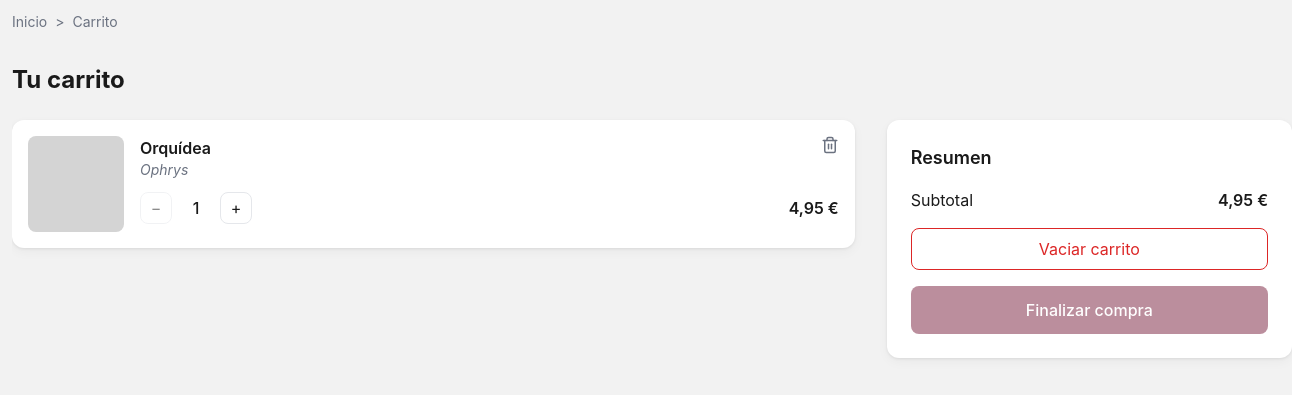
Test: CartPage integration › clears cart after confirmation
The image size is (1292, 395).
Note: First click shows confirmation dialog
Click the button "Vaciar carrito": x=1089, y=249 911,228 -> 1268,270
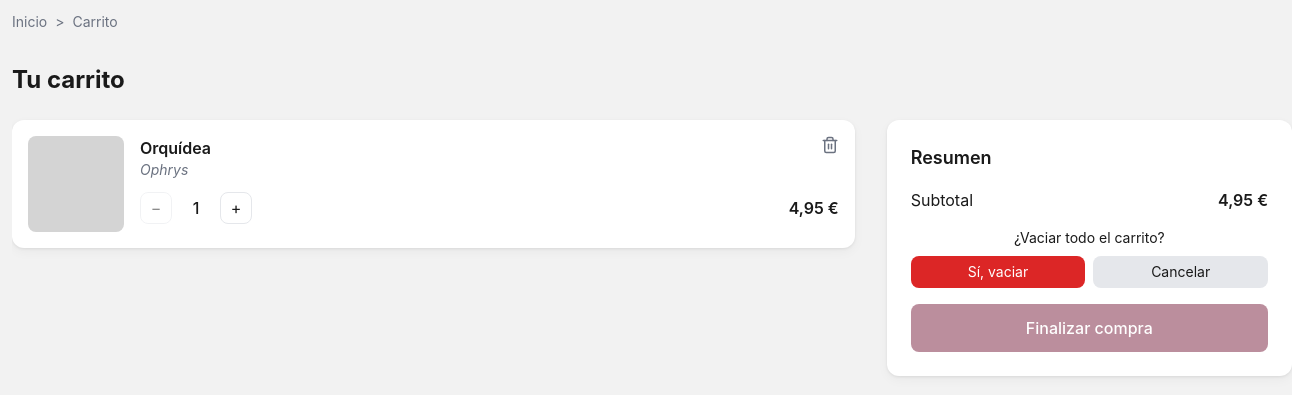
Note: Confirm by clicking "Sí, vaciar"
Click the button "Sí, vaciar": x=998, y=272 911,256 -> 1085,288
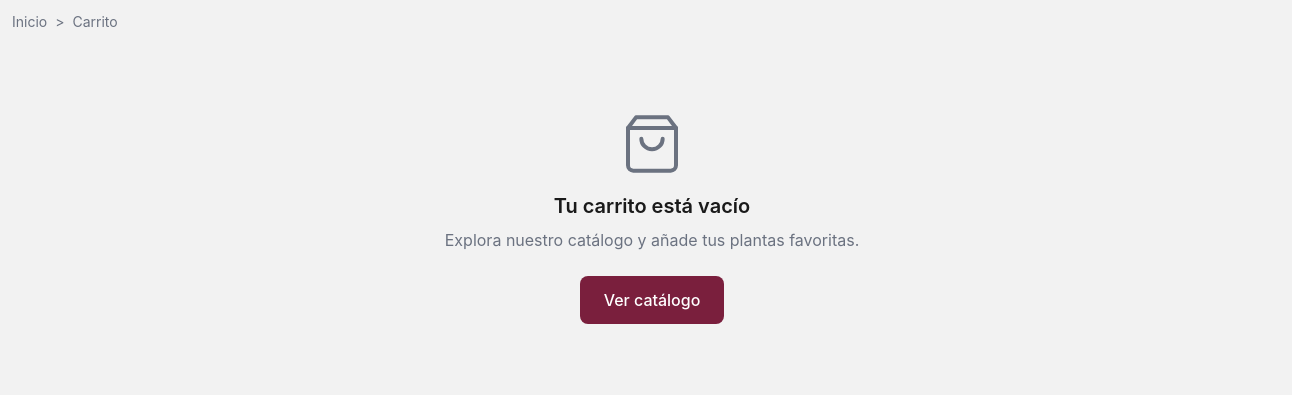
Result: the heading "Tu carrito está vacío" is shown at 554,192 -> 750,220
